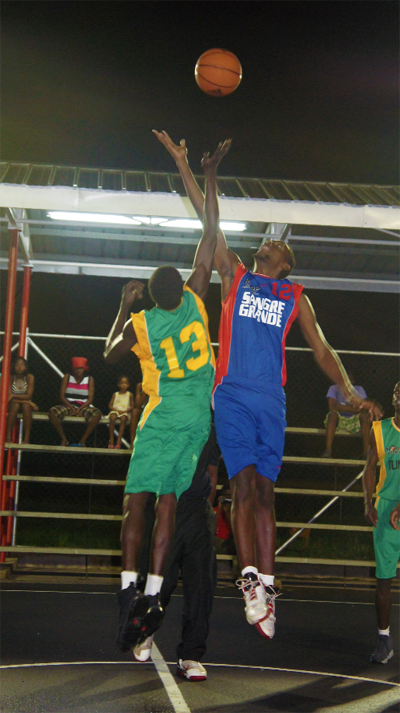ball: (192, 46, 246, 96)
player: (161, 129, 370, 641), (100, 122, 205, 649)
